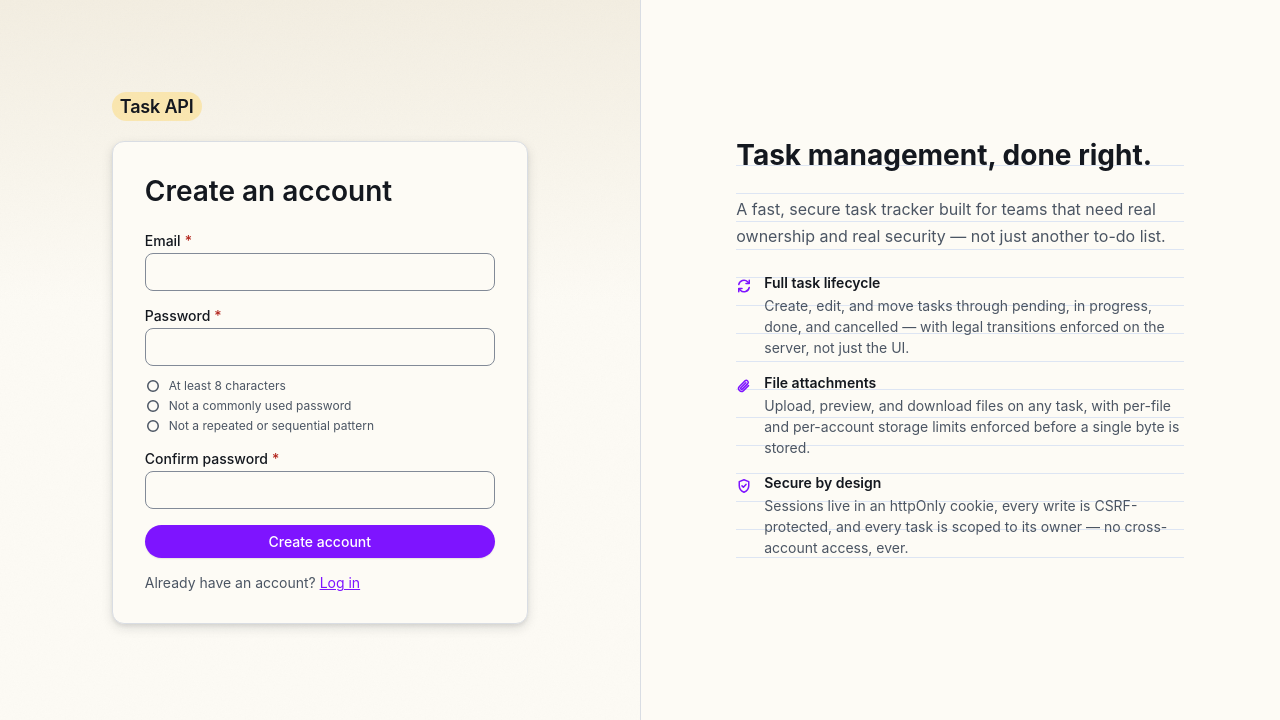
Scenario: RegisterPage › rejects an invalid email client-side
The width and height of the screenshot is (1280, 720).
Type "not-an-email" into the field labelled "Email*" at (320, 272), box [145,253,495,291]
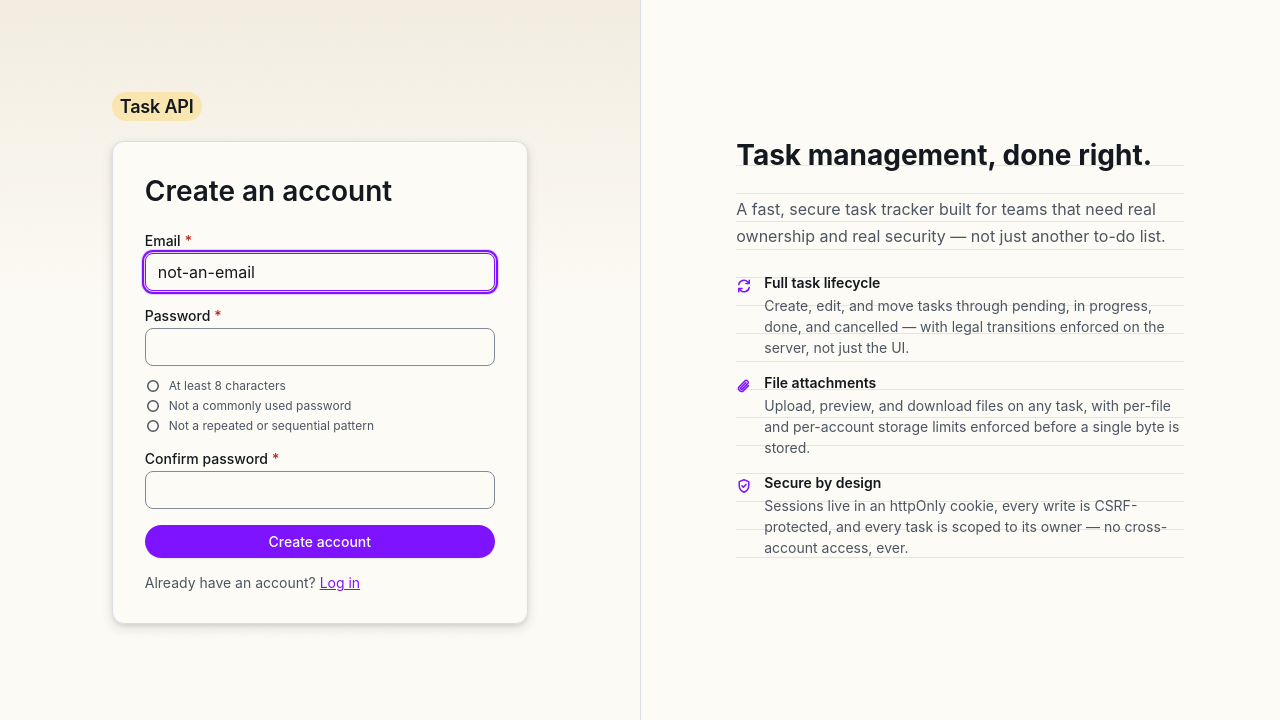
Type "correct horse battery staple" into the password field labelled "Password*" at (320, 347), box [145,328,495,366]
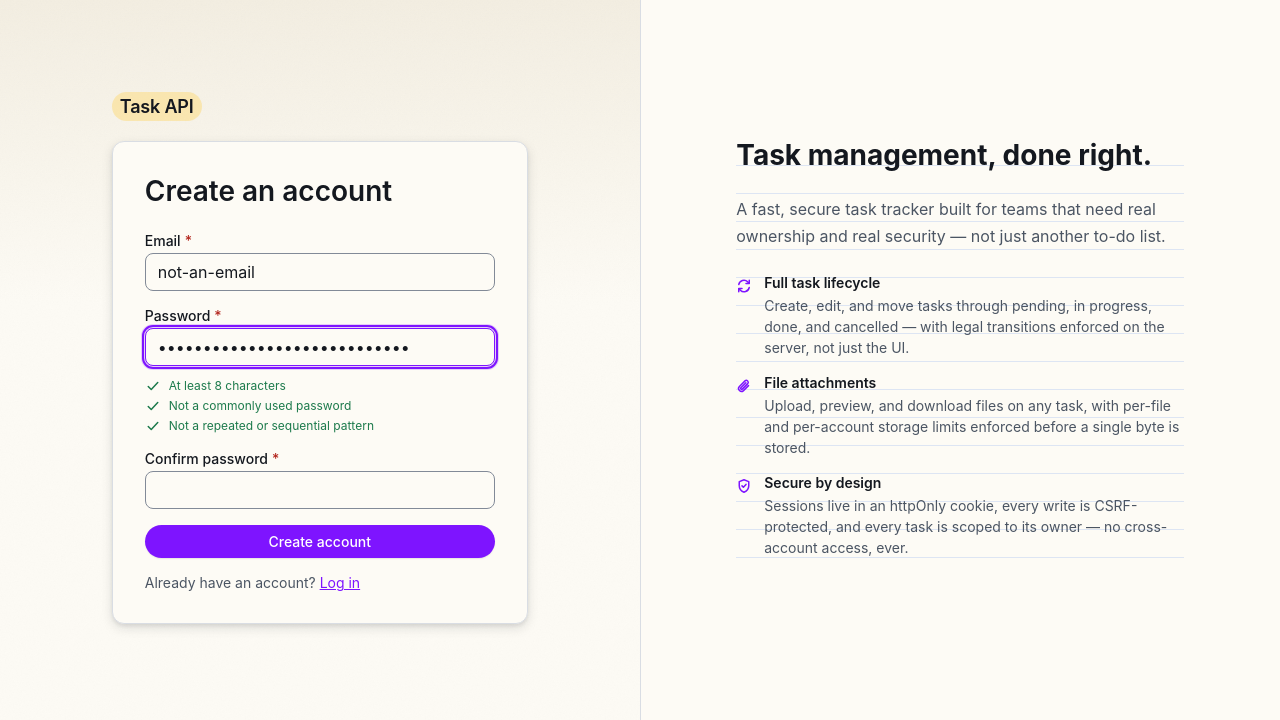
Type "correct horse battery staple" into the password field labelled "Confirm password*" at (320, 490), box [145,471,495,509]
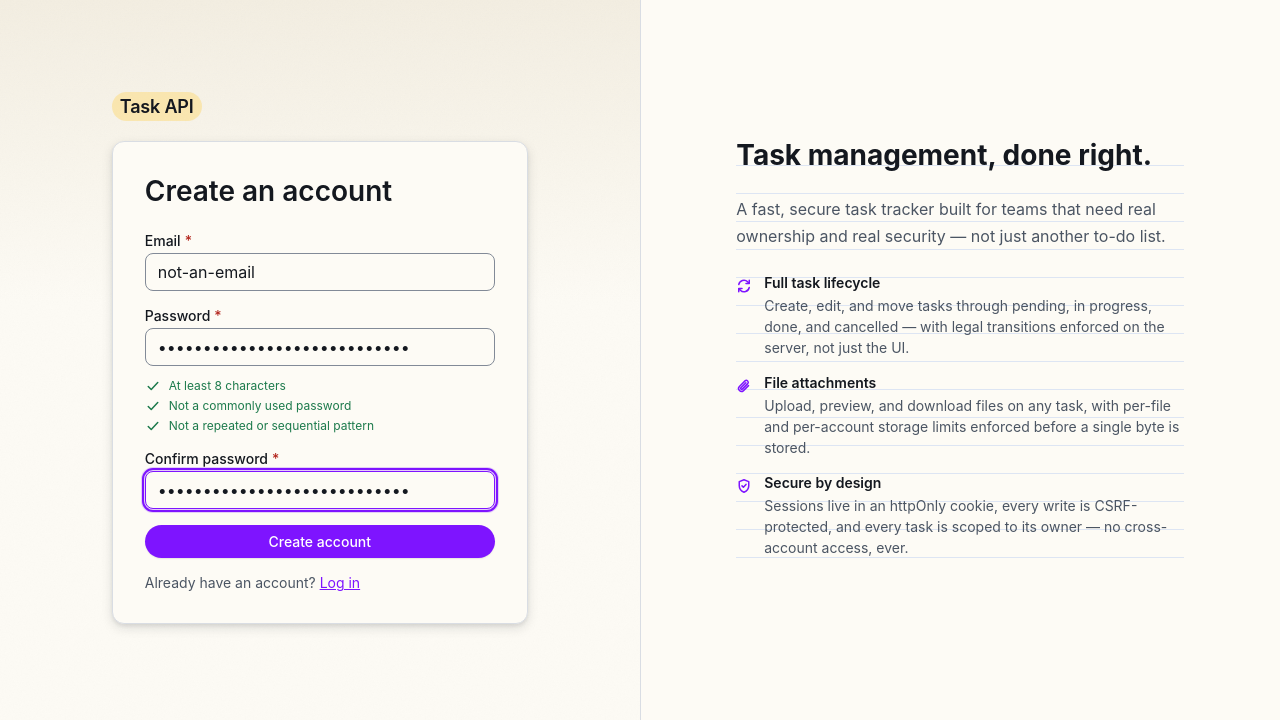
Click the button "Create account" at (320, 542), box [145,525,495,558]
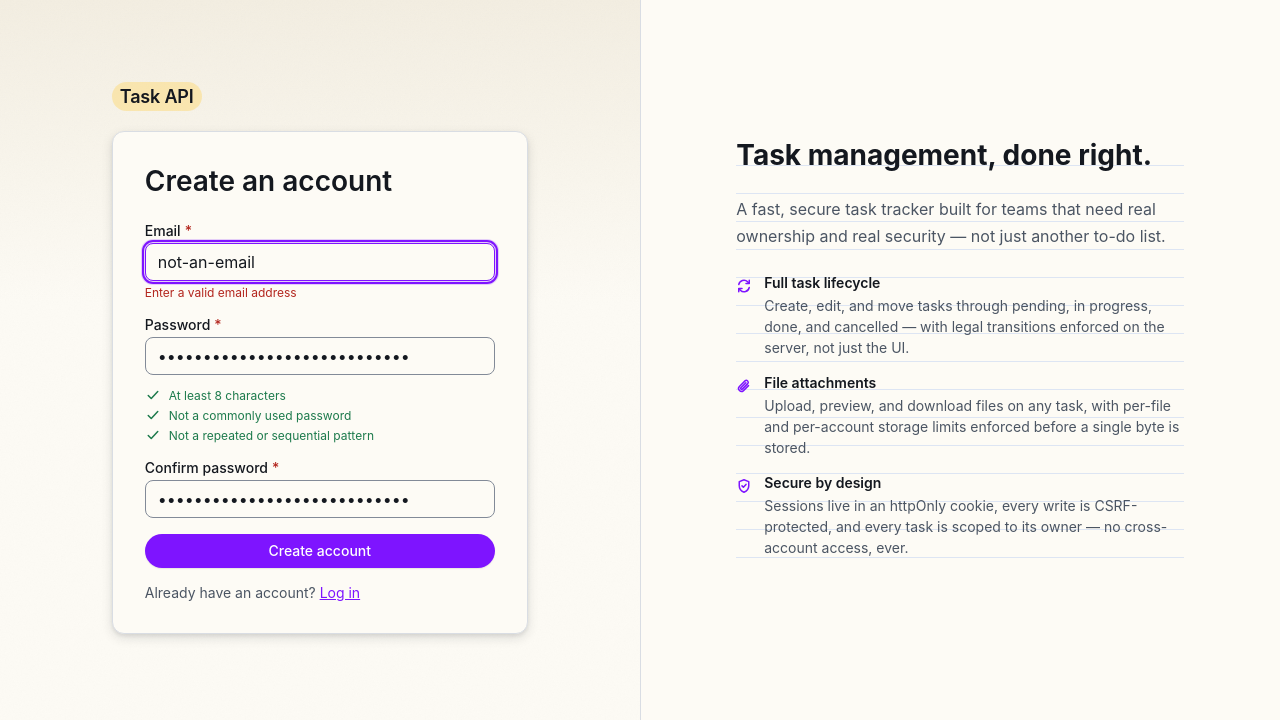
Now the text "Enter a valid email address" is shown, box [145,285,297,300]
